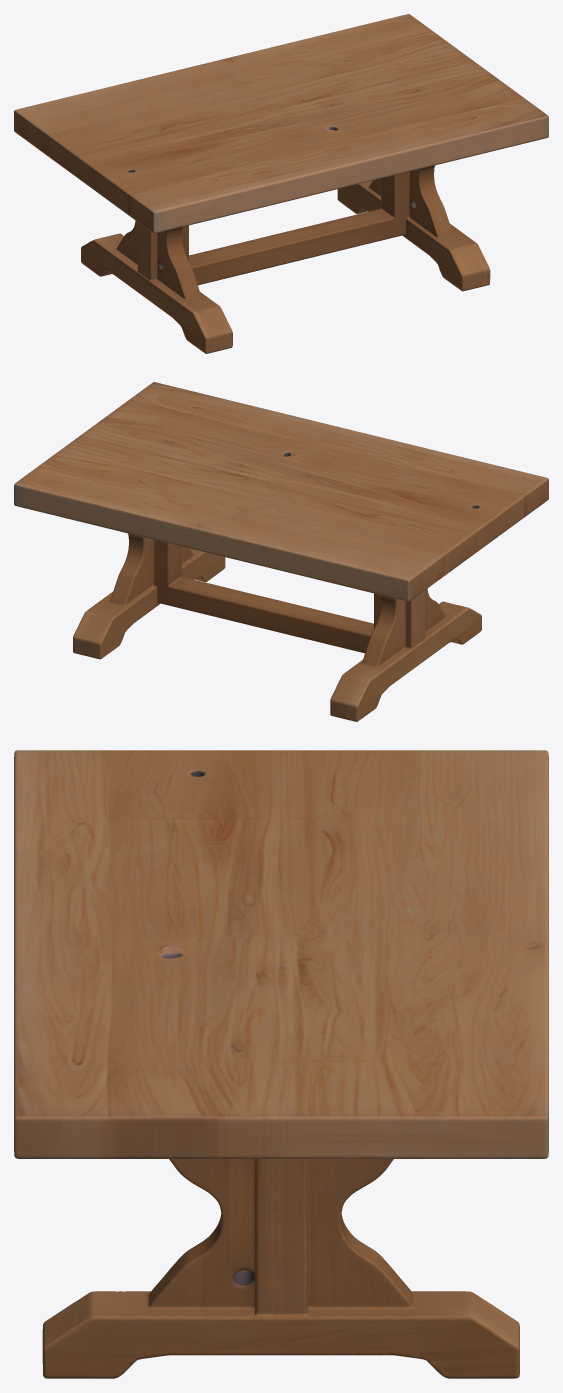
Rendered from detailed_realistic_model_largeoaktable_08.glb.
3 renders of one model, top to bottom at view 1: azimuth 30°, elevation 25°; view 2: azimuth 150°, elevation 25°; view 3: azimuth 270°, elevation 25°, orthographic. The views are drawn at different scales.
Parts seen in each view (by area): view 1: tripo_node_17f215f5-8350-44bb-b202-0491efdc2506; view 2: tripo_node_17f215f5-8350-44bb-b202-0491efdc2506; view 3: tripo_node_17f215f5-8350-44bb-b202-0491efdc2506.
Part boxes in pixels (<box>): tripo_node_17f215f5-8350-44bb-b202-0491efdc2506: <box>14,14,548,353</box>; tripo_node_17f215f5-8350-44bb-b202-0491efdc2506: <box>14,382,548,721</box>; tripo_node_17f215f5-8350-44bb-b202-0491efdc2506: <box>14,750,548,1378</box>.
Bounding box in the file's own units: 1 × 0.3945 × 0.6139.
1 material, 1 textured.
